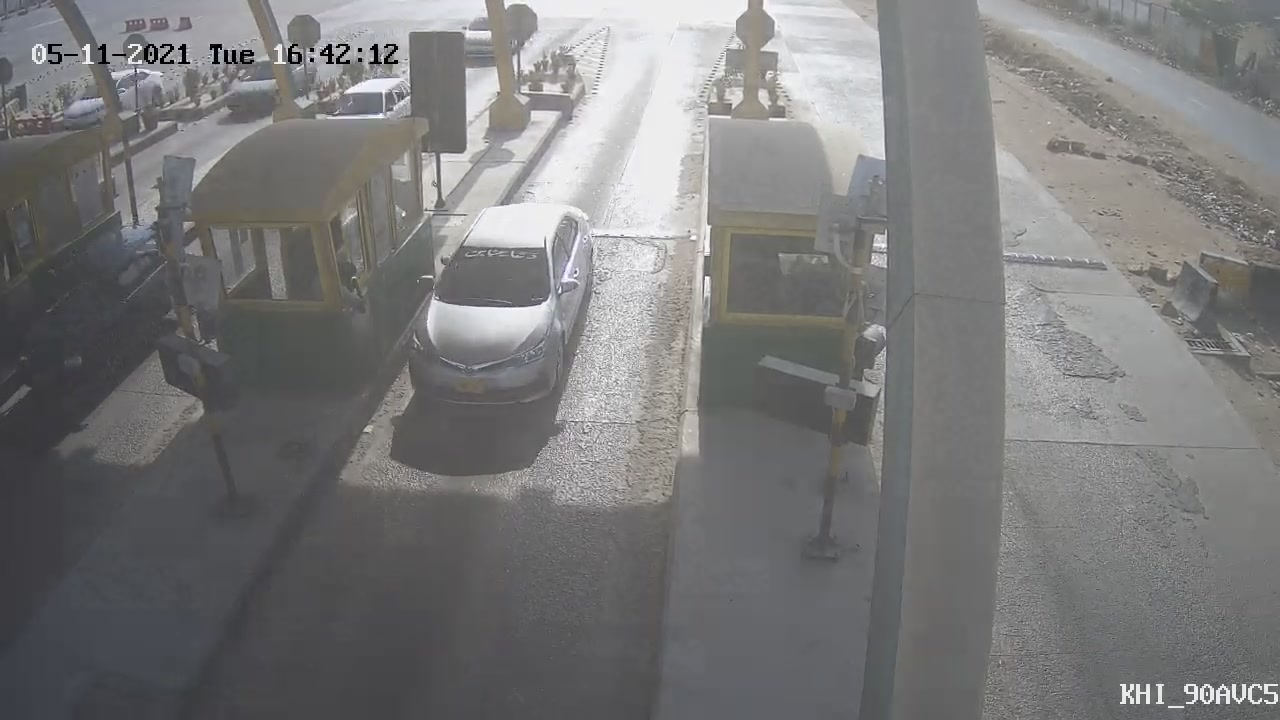F1: (383, 187, 614, 424)
